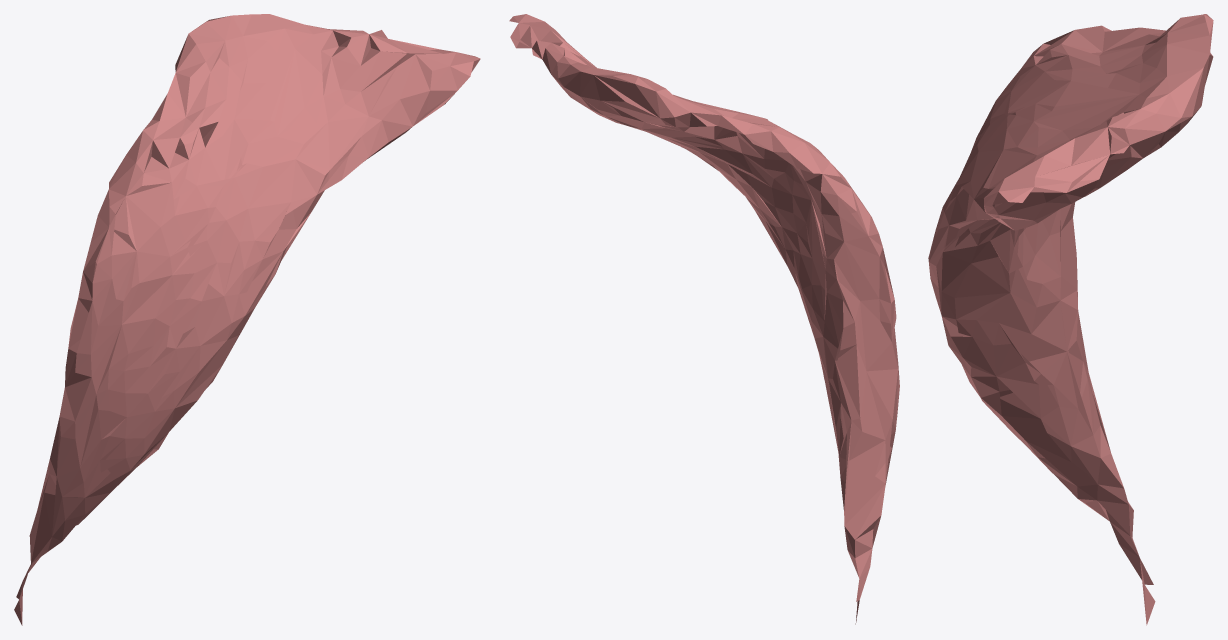
Rendered from Clavicular_part_of_deltoid_muscle.r.glb.
The picture shows the model from 3 angles, left to right: view 1: azimuth 30°, elevation 25°; view 2: azimuth 150°, elevation 25°; view 3: azimuth 270°, elevation 25°; orthographic projection. The views are drawn at different scales.
Visible parts, largest first — view 1: Clavicular_part_of_deltoid_muscle.r; view 2: Clavicular_part_of_deltoid_muscle.r; view 3: Clavicular_part_of_deltoid_muscle.r.
Part boxes in pixels (bbox=[...]): Clavicular_part_of_deltoid_muscle.r: bbox=[14, 14, 480, 625]; Clavicular_part_of_deltoid_muscle.r: bbox=[509, 14, 899, 624]; Clavicular_part_of_deltoid_muscle.r: bbox=[928, 14, 1213, 625].
Bounding box in the file's own units: 0.1252 × 0.1544 × 0.053.
